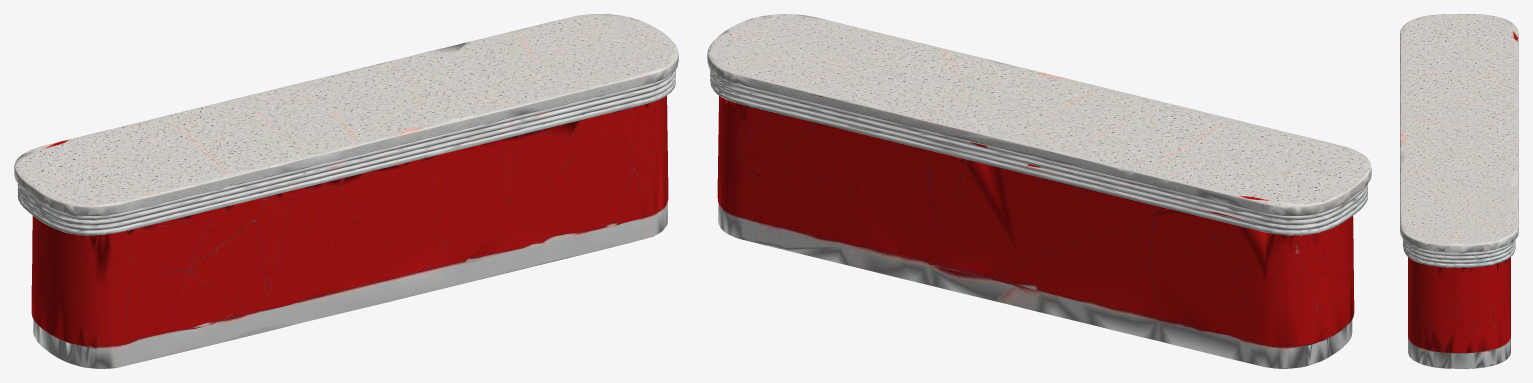
Rendered from counter.glb.
The picture shows the model from 3 angles, left to right: view 1: azimuth 30°, elevation 25°; view 2: azimuth 150°, elevation 25°; view 3: azimuth 270°, elevation 25°; orthographic projection. The views are drawn at different scales.
Bounding box in the file's own units: 1.9 × 0.4873 × 0.4124.
Materials: 1 (1 with a texture image).
